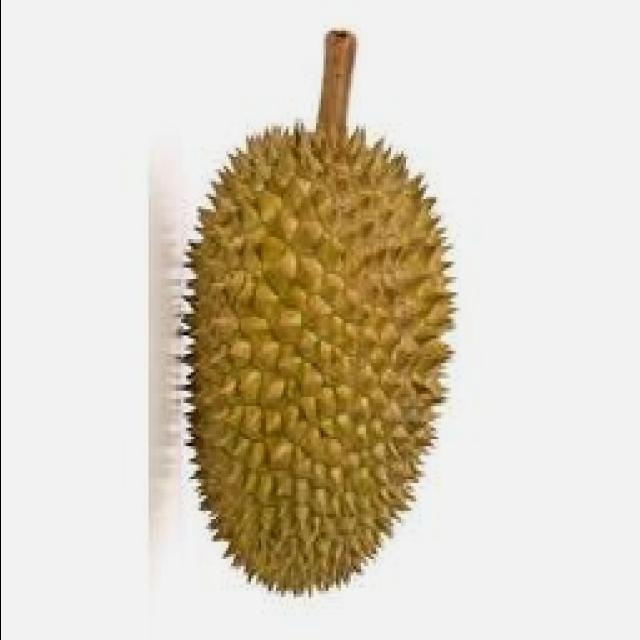agrume: (162, 20, 480, 600)
